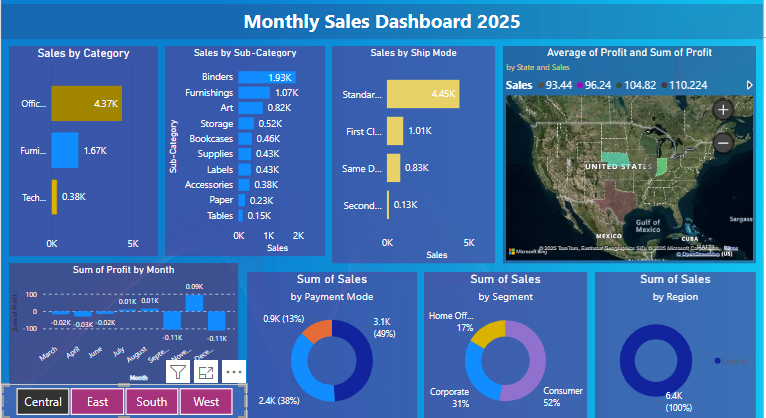

The page's visual inventory and layout, read from the dashboard file:
{"tool":"powerbi","page":{"name":"Page 1","canvas":[1280,720],"ordinal":0},"visuals":[{"type":"clusteredBarChart","fields":{"Category":["Sheet1.Category"],"Y":["Sum(Sheet1.Sales)"]},"box":[13.4,82.3,250.3,352.8],"z":0},{"type":"clusteredBarChart","fields":{"Y":["Sum(Sheet1.Sales)"],"Category":["Sheet1.Sub-Category"]},"box":[275.5,82.3,268.8,352.8],"z":1},{"type":"clusteredBarChart","fields":{"Y":["Sum(Sheet1.Sales)"],"Category":["Sheet1.Ship Mode"]},"box":[556,82.3,273.8,364.5],"z":2},{"type":"clusteredColumnChart","fields":{"Category":["Sheet1.Order Date.Variation.Date Hierarchy.Month"],"Y":["Sum(Sheet1.Profit)"]},"box":[13.4,446.8,384.7,203.3],"z":4},{"type":"filledMap","fields":{"Category":["Sheet1.State"],"Series":["Sheet1.Sales"],"Y":["Avg(Sheet1.Profit)"]},"box":[843.3,82.3,425,364.5],"z":5},{"type":"textbox","box":[0,11.8,1280,58.8],"z":6},{"type":"donutChart","fields":{"Category":["Sheet1.Segment"],"Y":["Sum(Sheet1.Sales)"]},"box":[710.6,461.9,273.8,246.9],"z":7},{"type":"donutChart","fields":{"Y":["Sum(Sheet1.Sales)"],"Category":["Sheet1.Region"]},"box":[997.8,461.9,270.4,246.9],"z":8},{"type":"donutChart","fields":{"Y":["Sum(Sheet1.Sales)"],"Category":["Sheet1.Payment Mode"]},"box":[413.2,461.9,285.6,246.9],"z":9},{"type":"slicer","fields":{"Values":["Sheet1.Region"]},"box":[0,650.1,413.2,58.8],"z":10}]}

Visuals, with their boxes on the page's 1280x720 design canvas (x1, y1, x2, y2). These are canvas units, not pixel positions in the 766x418 screenshot, which may show the page scaled, cropped or inside an application window:
clusteredBarChart - Sheet1.Category x Sum(Sheet1.Sales): 13, 82, 264, 435
clusteredBarChart - Sum(Sheet1.Sales) x Sheet1.Sub-Category: 276, 82, 544, 435
clusteredBarChart - Sum(Sheet1.Sales) x Sheet1.Ship Mode: 556, 82, 830, 447
clusteredColumnChart - Sheet1.Order Date.Variation.Date Hierarchy.Month x Sum(Sheet1.Profit): 13, 447, 398, 650
filledMap - Sheet1.State x Sheet1.Sales: 843, 82, 1268, 447
textbox: 0, 12, 1280, 71
donutChart - Sheet1.Segment x Sum(Sheet1.Sales): 711, 462, 984, 709
donutChart - Sum(Sheet1.Sales) x Sheet1.Region: 998, 462, 1268, 709
donutChart - Sum(Sheet1.Sales) x Sheet1.Payment Mode: 413, 462, 699, 709
slicer - Sheet1.Region: 0, 650, 413, 709
